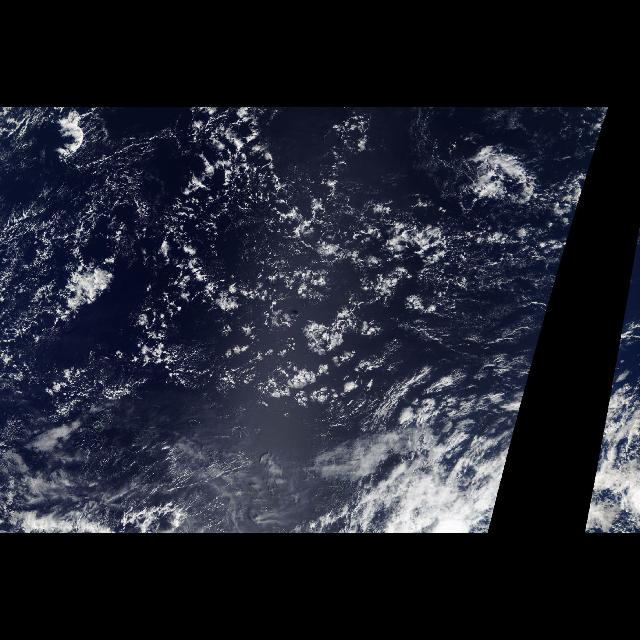Gravel: (157, 122, 456, 382)
